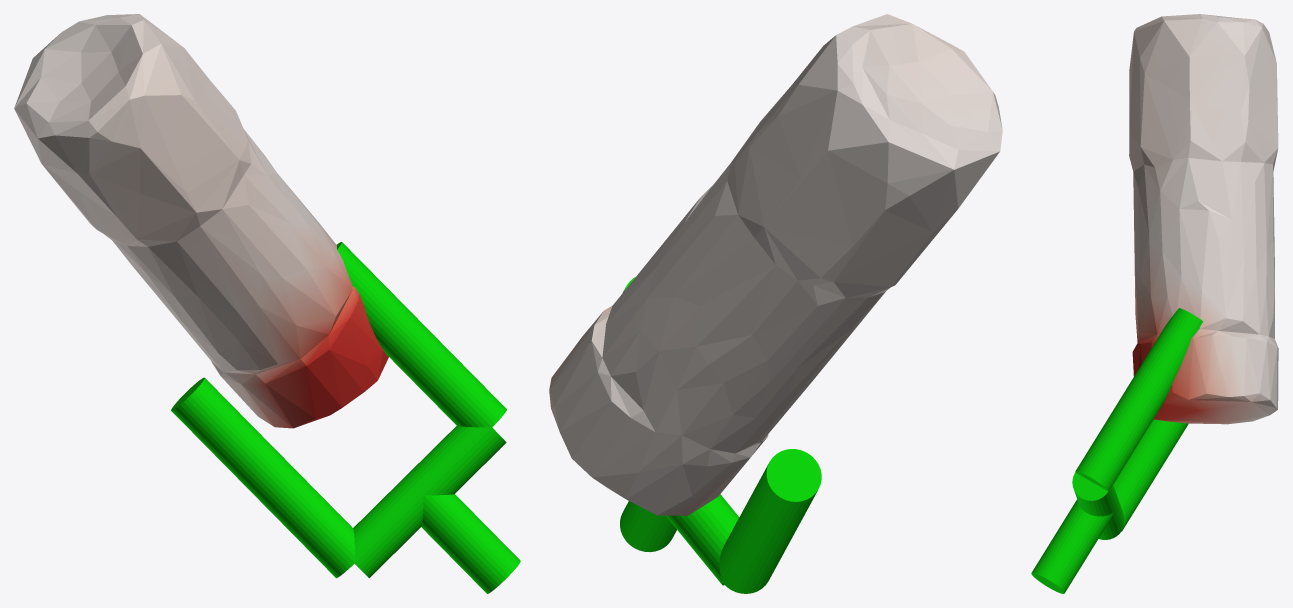
The model's file is round_001_trial_000.obj.
3 views of the same model, side by side, from view 1: azimuth 30°, elevation 25°; view 2: azimuth 150°, elevation 25°; view 3: azimuth 270°, elevation 25° (orthographic). The views are drawn at different scales.
Visible parts, largest first — view 1: geometry_0, geometry_1; view 2: geometry_0, geometry_1; view 3: geometry_0, geometry_1.
Part boxes in pixels (x1,y1,x2,y2): geometry_0: [14, 14, 388, 428]; geometry_1: [171, 242, 520, 593]; geometry_0: [549, 14, 1002, 515]; geometry_1: [620, 277, 821, 593]; geometry_0: [1129, 14, 1278, 424]; geometry_1: [1031, 308, 1203, 593].
Bounding box in the file's own units: 0.1006 × 0.1328 × 0.0633.
